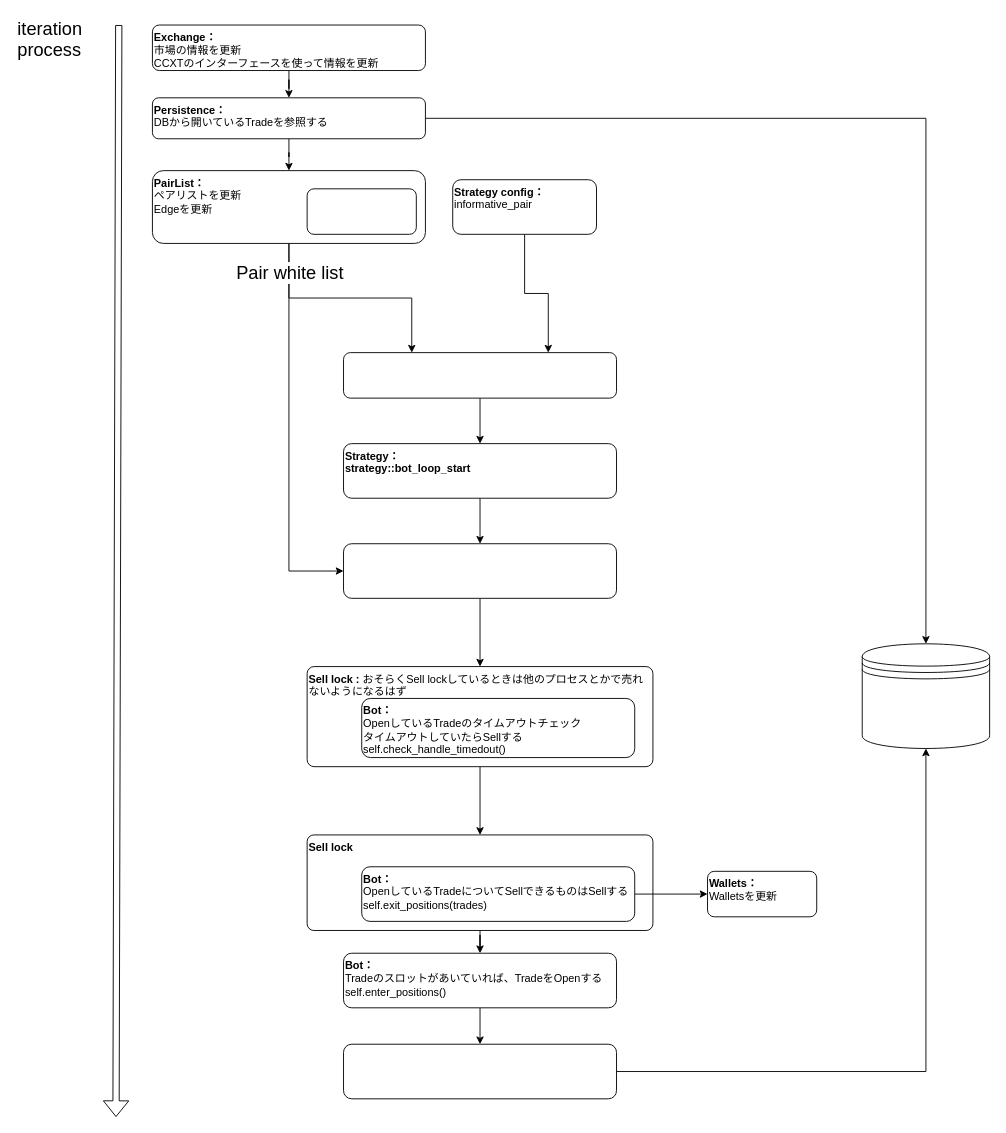
Image size: 1006x1133. Some labels were removed from this diagram. Each missing label, with the centre of its shape:
"Dataprovider： 統計情報など更新？" belongs at point (480, 375).
"Edge： Edgeを更新" belongs at point (361, 211).
"Persistence SQLight" belongs at point (925, 695).
"Persistence： TradeクラスとDBを同期する Trade.session.flush()" belongs at point (480, 1071).
"Strategy： strategy::analyze" belongs at point (480, 570).
